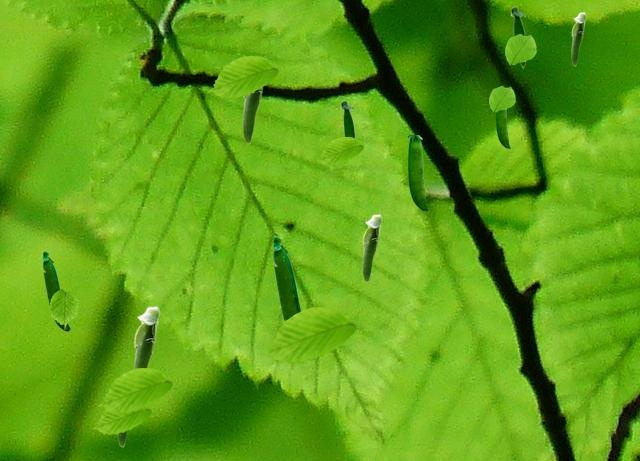pea: (272, 235, 301, 319), (42, 250, 69, 330), (133, 306, 159, 368), (408, 135, 427, 211), (362, 214, 381, 281), (242, 87, 263, 143), (510, 6, 525, 68), (571, 12, 585, 65), (340, 100, 354, 137), (496, 109, 509, 148), (117, 431, 128, 446)
